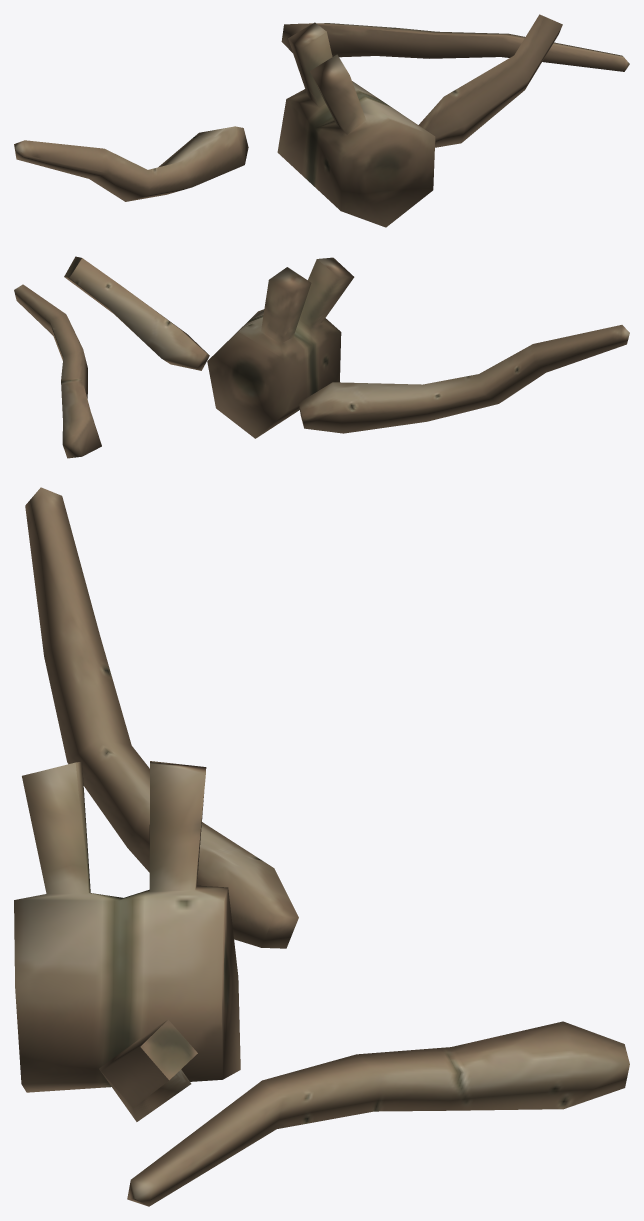
The model's file is Bones_04.fbx.
3 views of the same model, one above another, from view 1: azimuth 30°, elevation 25°; view 2: azimuth 150°, elevation 25°; view 3: azimuth 270°, elevation 25° (orthographic). The views are drawn at different scales.
Visible parts, largest first — view 1: polySurface680; view 2: polySurface680; view 3: polySurface680.
Part boxes in pixels (x1,y1,x2,y2): polySurface680: [14, 14, 629, 227]; polySurface680: [14, 256, 629, 458]; polySurface680: [14, 487, 629, 1206].
Bounding box in the file's own units: 1.72 × 0.4521 × 0.819.
1 material, 1 textured.
